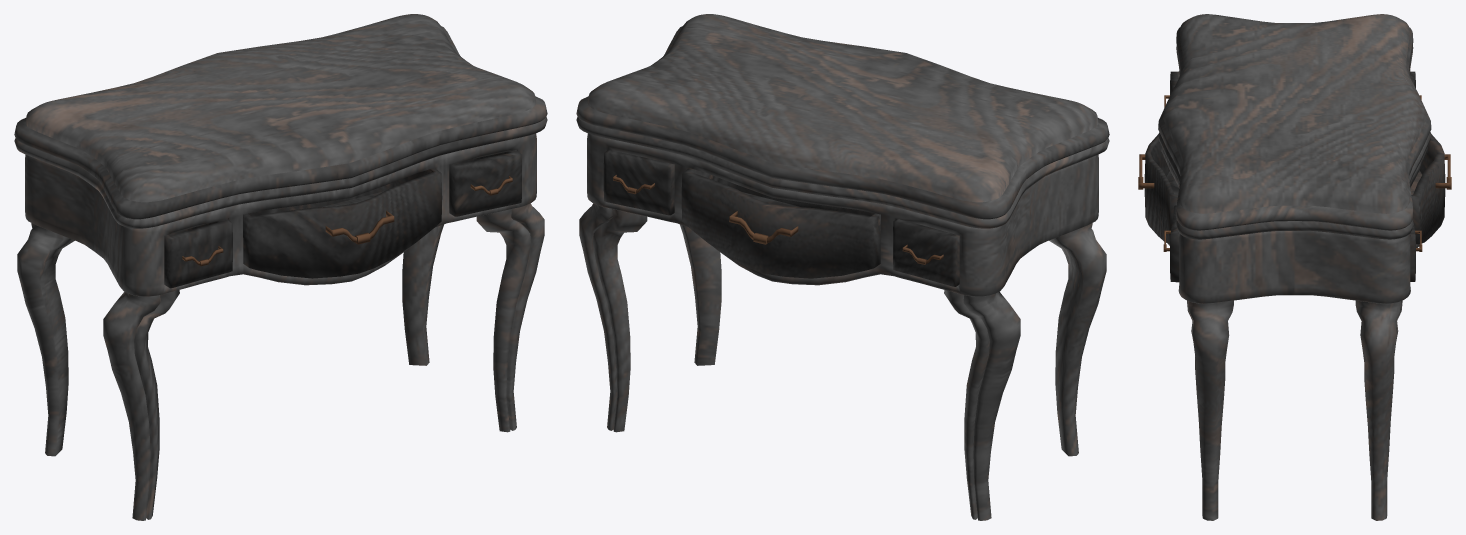
Rendered from photo_frame_desk.fbx.
3 views of the same model, side by side, from view 1: azimuth 30°, elevation 25°; view 2: azimuth 150°, elevation 25°; view 3: azimuth 270°, elevation 25° (orthographic). The views are drawn at different scales.
Visible parts, largest first — view 1: desk, drawer_2, drawer_3, drawer_1; view 2: desk, drawer_5, drawer_4, drawer_6; view 3: desk, drawer_5, drawer_2, drawer_3, drawer_4.
Part boxes in pixels (left/top/right/bottom): desk: left=14, top=14, right=547, bottom=520; drawer_2: left=243, top=168, right=442, bottom=278; drawer_3: left=449, top=150, right=521, bottom=216; drawer_1: left=164, top=218, right=232, bottom=288; desk: left=576, top=14, right=1109, bottom=520; drawer_5: left=681, top=168, right=880, bottom=278; drawer_4: left=603, top=150, right=674, bottom=215; drawer_6: left=893, top=218, right=959, bottom=286; desk: left=1158, top=14, right=1431, bottom=520; drawer_5: left=1410, top=132, right=1451, bottom=244; drawer_2: left=1138, top=132, right=1178, bottom=243; drawer_3: left=1163, top=205, right=1179, bottom=282; drawer_4: left=1410, top=220, right=1422, bottom=281.
Size of the model in its own units: 123 by 92.76 by 79.7.
